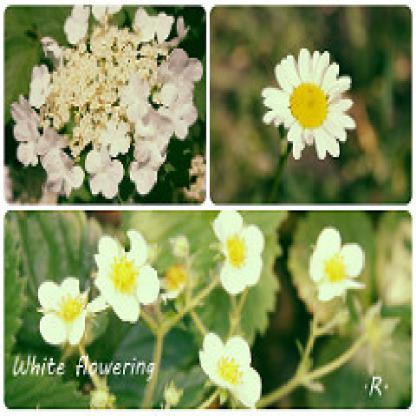ASTER: (15, 214, 410, 408), (13, 8, 197, 197), (219, 15, 405, 188)
